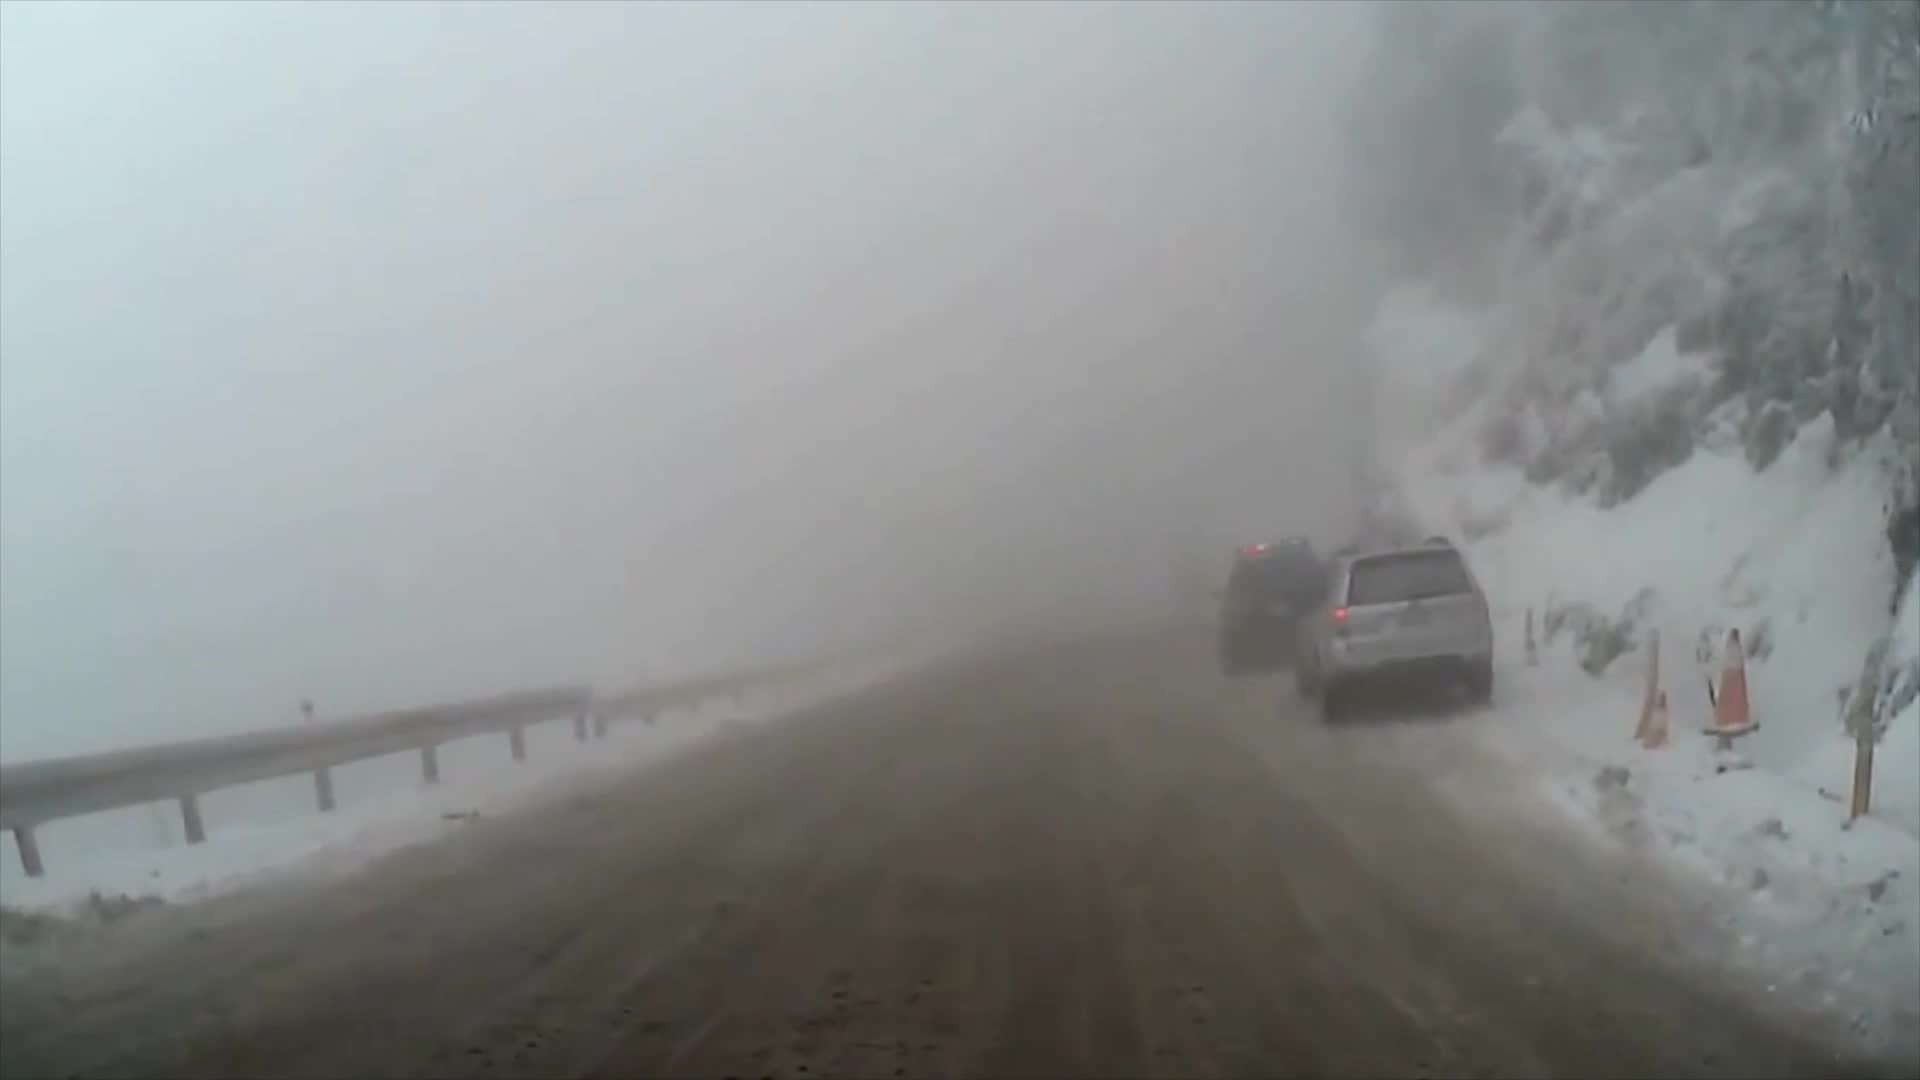vehicle: (1288, 531, 1493, 727), (1203, 527, 1336, 673)
